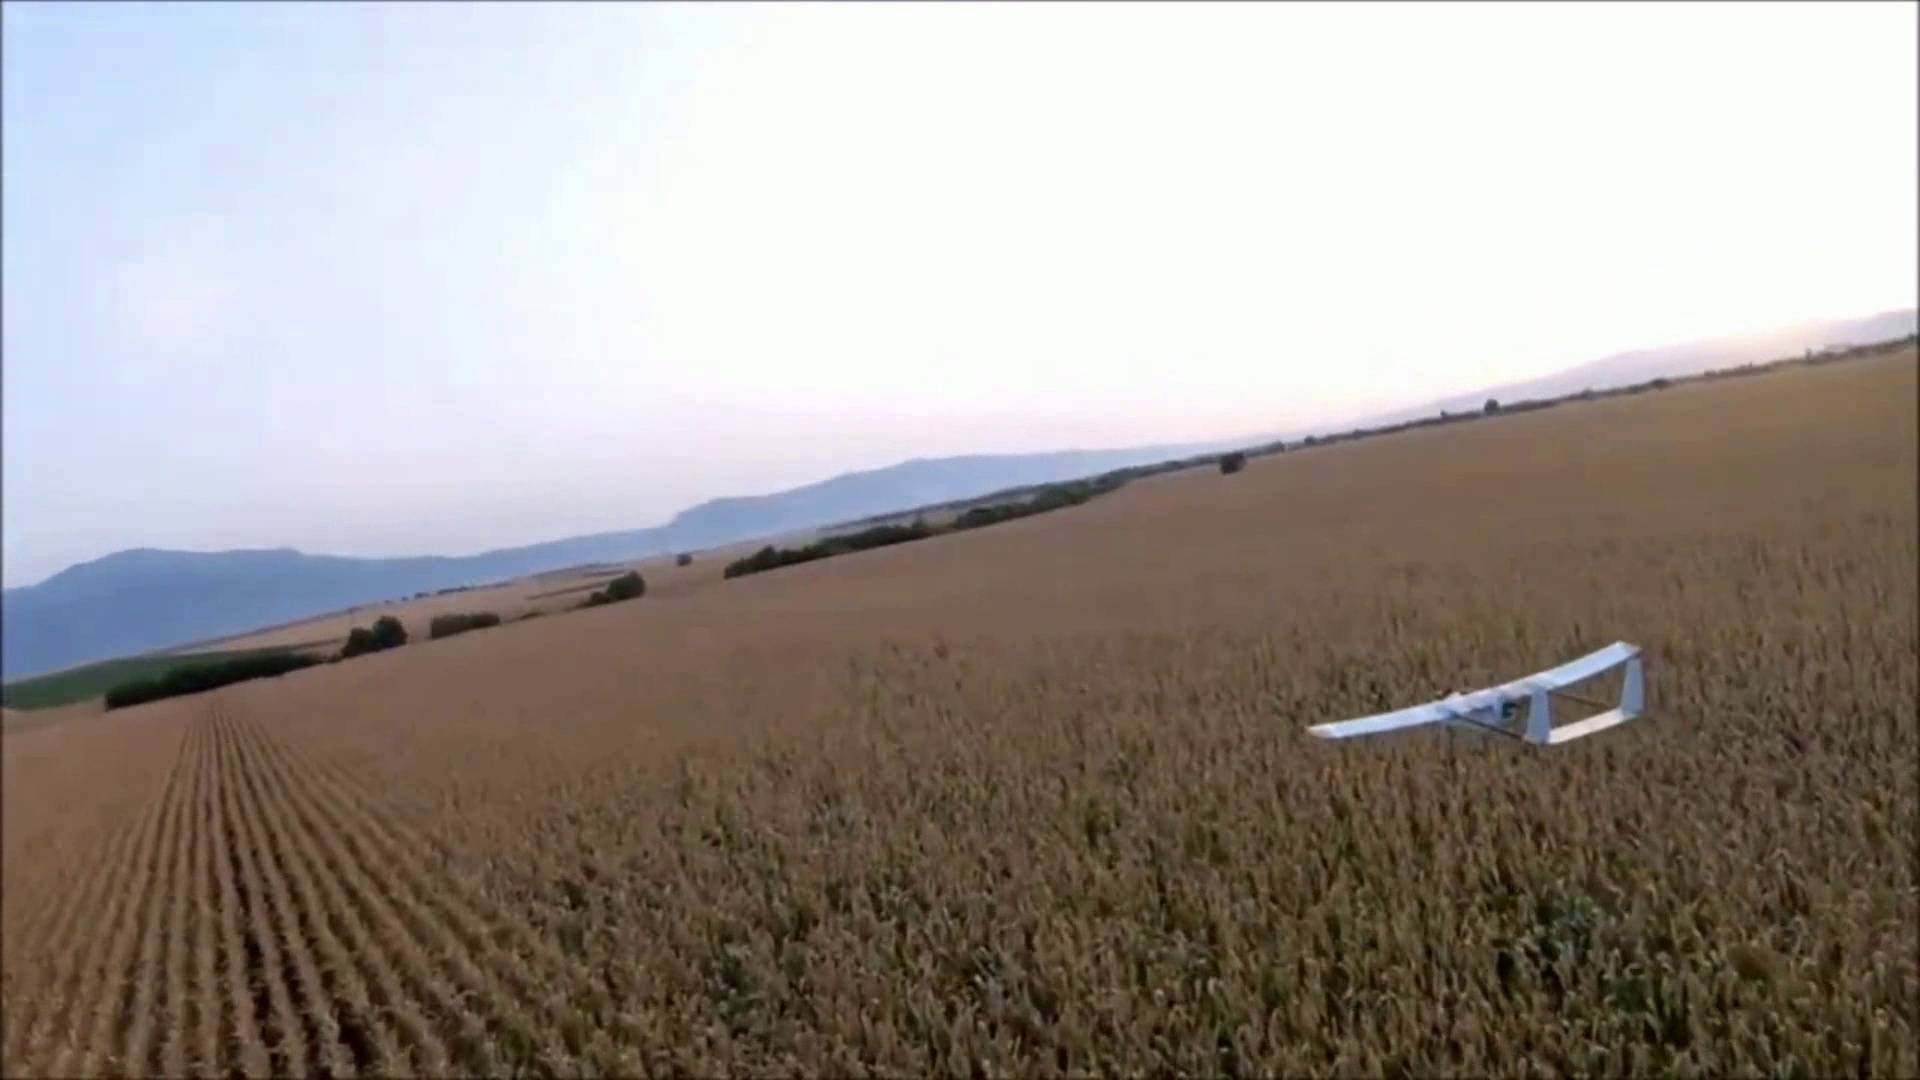airplane: (8, 319, 1879, 814), (1302, 640, 1652, 756)
